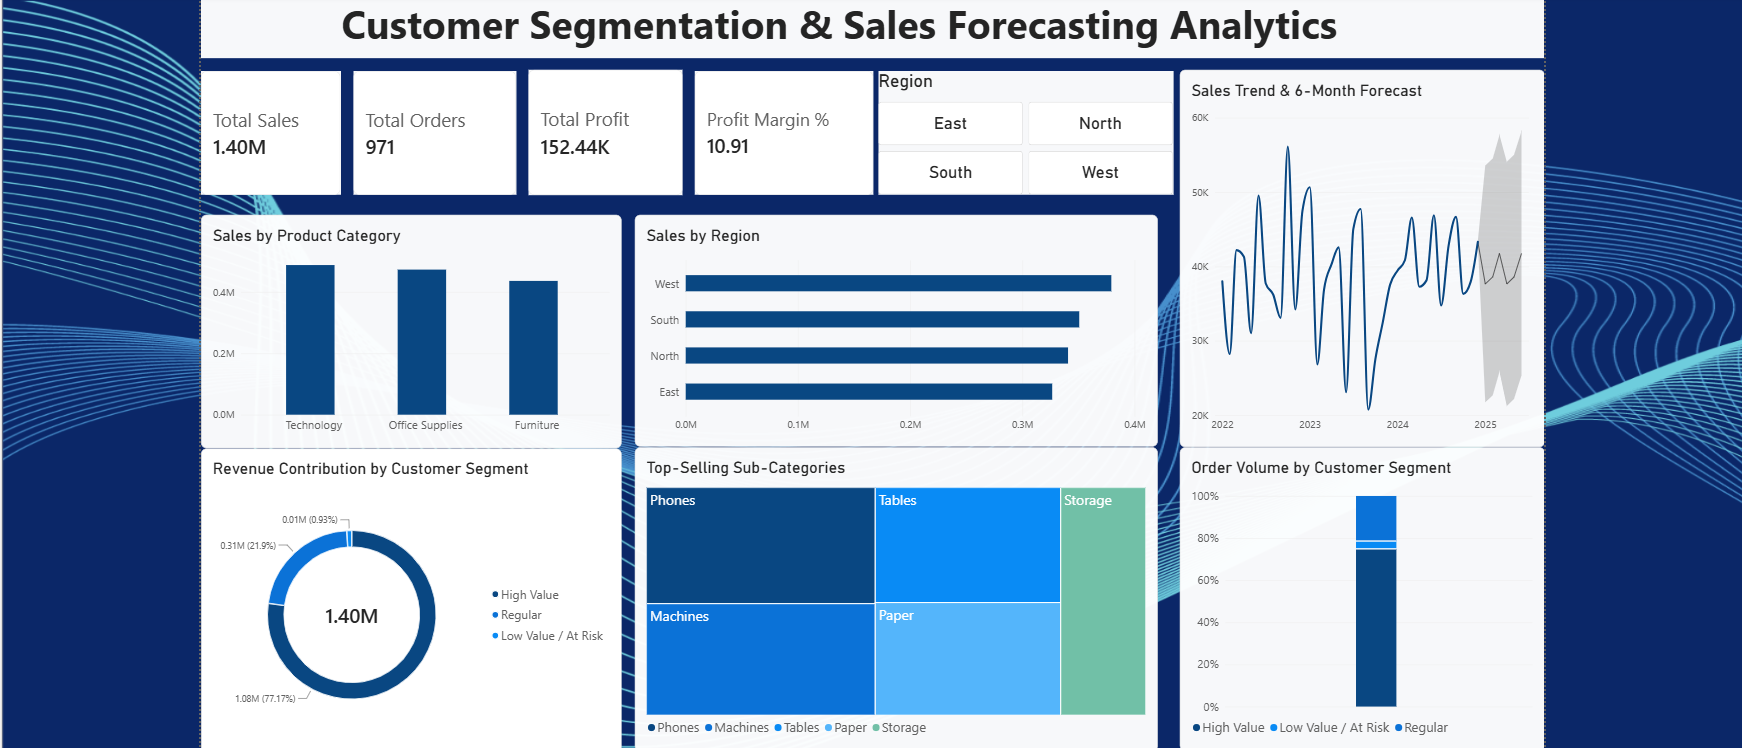

This screenshot's page, from the dashboard's own definition file:
{"tool":"powerbi","page":{"name":"Dashboard","canvas":[1920,1080],"ordinal":0},"visuals":[{"type":"donutChart","title":"Revenue Contribution by Customer Segment","fields":{"Category":["Customer_Summary.Customer_Segment"],"Y":["Sum(Customer_Summary.Total_Sales)"]},"box":[0,646.3,601,434.3],"z":0},{"type":"hundredPercentStackedColumnChart","title":"Order Volume by Customer Segment","fields":{"Series":["Customer_Summary.Customer_Segment"],"Y":["Sum(Customer_Summary.Order_Count)"]},"box":[1398.2,644.6,521.4,433.9],"z":1000},{"type":"lineChart","title":"Sales Trend & 6-Month Forecast","fields":{"Category":["superstore_sales.Order_Date.Variation.Date Hierarchy.Year","superstore_sales.Order_Date.Variation.Date Hierarchy.Month"],"Y":["Sum(superstore_sales.Sales)"]},"box":[1398.2,105.4,521.4,539.3],"z":2000},{"type":"cardVisual","fields":{"Data":["Sum(superstore_sales.Sales)"]},"box":[0,107,199.7,177],"z":3000},{"type":"cardVisual","fields":{"Data":["Sum(superstore_sales.Profit)"]},"box":[467.2,105,220.2,179.1],"z":4000},{"type":"cardVisual","fields":{"Data":["Sum(Customer_Summary.Order_Count)"]},"box":[218.2,107,232.6,177],"z":5000},{"type":"columnChart","title":"Sales by Product Category","fields":{"Category":["superstore_sales.Category"],"Y":["Sum(superstore_sales.Sales)"]},"box":[0,312.5,601,333.4],"z":6000},{"type":"clusteredBarChart","title":"Sales by Region","fields":{"Category":["superstore_sales.Region"],"Y":["Sum(superstore_sales.Sales)"]},"box":[619.6,312.5,747.2,331.4],"z":7000},{"type":"advancedSlicerVisual","fields":{"Values":["superstore_sales.Region"]},"box":[967.9,107.1,421.4,176.8],"z":8000},{"type":"textbox","box":[0,0,1920.4,88.5],"z":9000},{"type":"treemap","title":"\tTop-Selling Sub-Categories","fields":{"Group":["superstore_sales.Sub_Category"],"Values":["Sum(superstore_sales.Sales)"]},"box":[619.6,644.6,747.2,434.3],"z":10000},{"type":"cardVisual","fields":{"Data":["Customer_Summary.Profit_Margin_Percent"]},"box":[706,107,255.2,177],"z":11000}]}

Visuals, with their boxes in screenshot pixels (x1, y1, x2, y2):
"Revenue Contribution by Customer Segment" donutChart: detection(186, 449, 612, 747)
"Order Volume by Customer Segment" hundredPercentStackedColumnChart: detection(1177, 448, 1546, 747)
"Sales Trend & 6-Month Forecast" lineChart: detection(1177, 66, 1546, 448)
cardVisual - Sum(superstore_sales.Sales): detection(186, 67, 327, 192)
cardVisual - Sum(superstore_sales.Profit): detection(517, 65, 673, 192)
cardVisual - Sum(Customer_Summary.Order_Count): detection(341, 67, 505, 192)
"Sales by Product Category" columnChart: detection(186, 212, 612, 449)
"Sales by Region" clusteredBarChart: detection(625, 212, 1155, 447)
advancedSlicerVisual - superstore_sales.Region: detection(872, 67, 1170, 192)
textbox: detection(186, 0, 1547, 54)
"	Top-Selling Sub-Categories" treemap: detection(625, 448, 1155, 747)
cardVisual - Customer_Summary.Profit_Margin_Percent: detection(686, 67, 867, 192)
